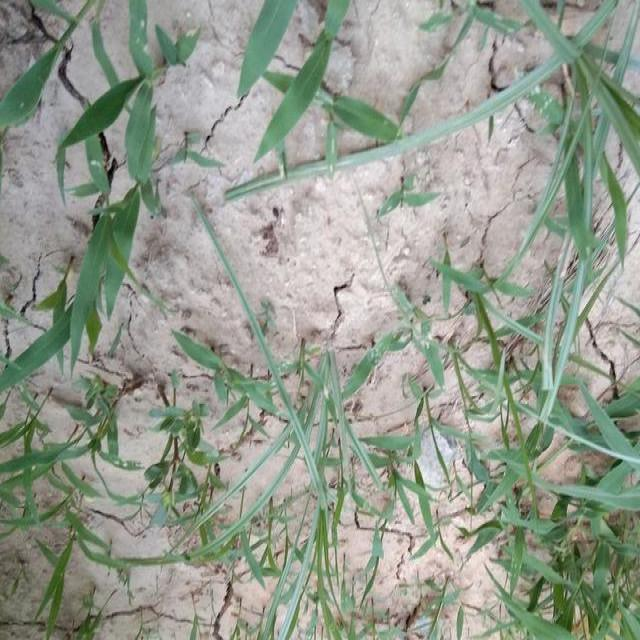weed: (416, 341, 636, 640), (174, 345, 386, 640), (14, 29, 152, 372), (522, 0, 640, 391), (0, 378, 140, 640), (233, 0, 398, 155)
